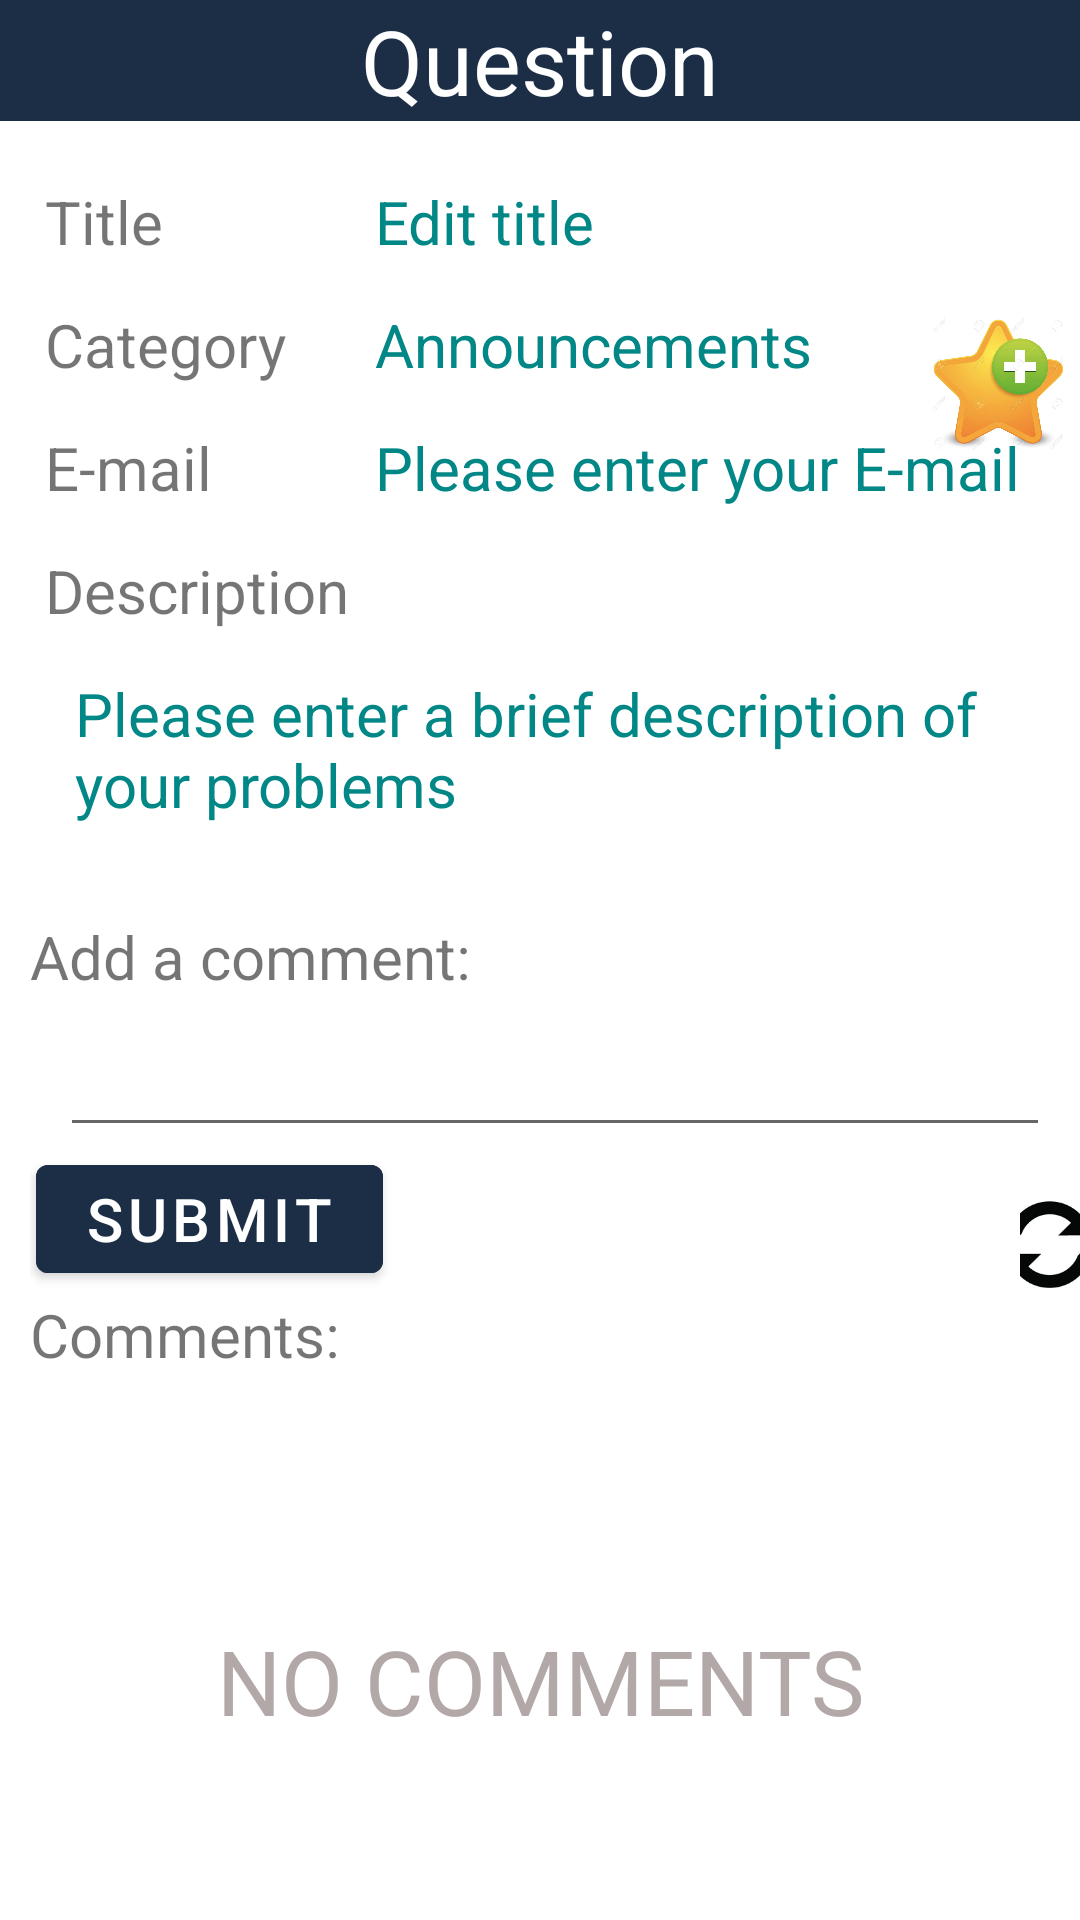

Icon bounding boxes for this 1080px×1920px phone screenshot, format (x1,y1,x2,y2):
collection: (933,319,1063,450)
refresh: (1020,1201,1080,1288)
